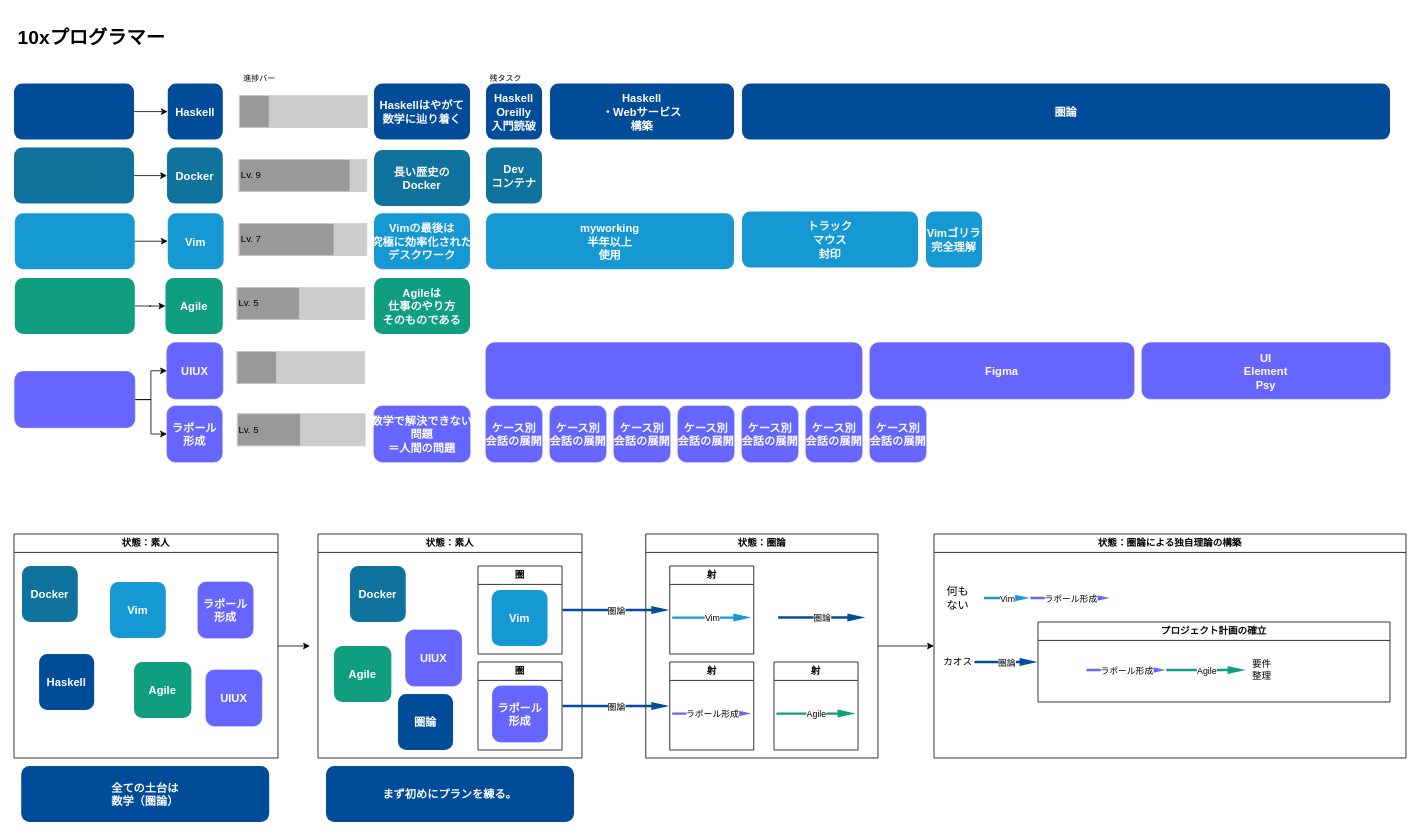
Some shapes in this 1420 by 835 pixel diagram are drawn without their labels. The shapes that lost their labels are listed below. From the top down, each one's centre as x and y in pixels, then its label:
the point at 74,111: 副作用を 減らす
the point at 254,111: Lv. 2
the point at 74,175: オリジナリティを 出さない
the point at 74,241: 物理的に早く動く
the point at 74,306: 無駄な機能を 作らない
the point at 256,367: Lv. 3
the point at 673,370: 行動を 変える デザイン
the point at 74,399: 結局最後は 人間の問題
